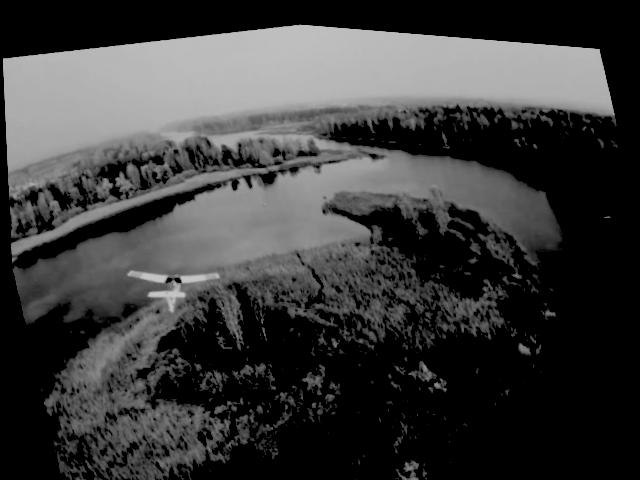hedef: (115, 246, 230, 327)
